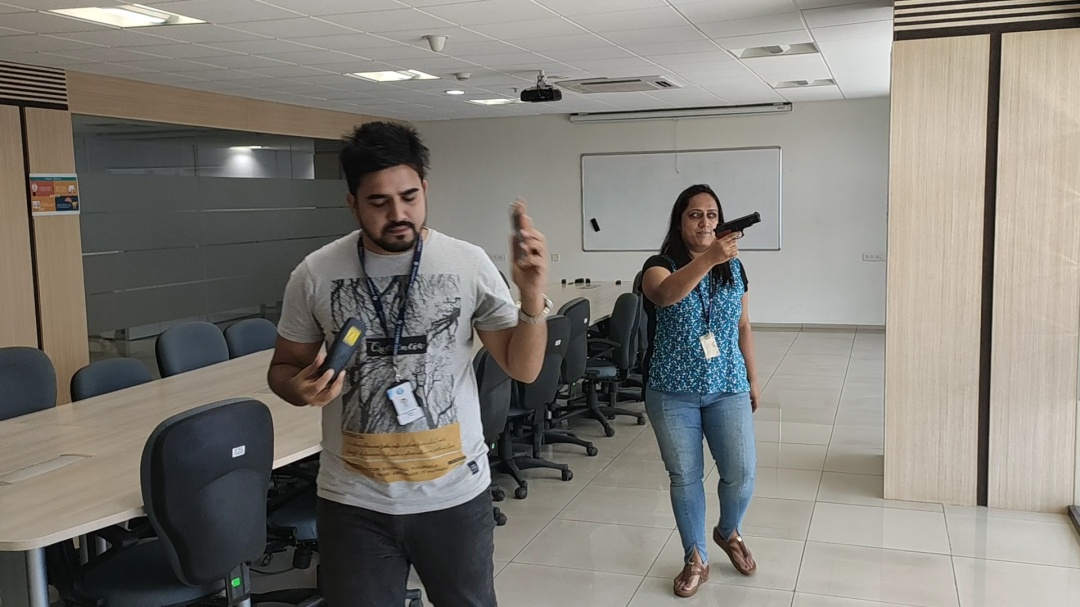gun: (713, 211, 763, 240)
